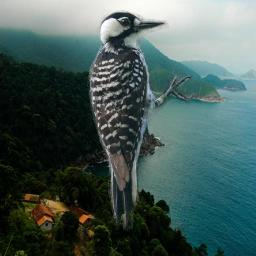Woodpecker: (85, 10, 196, 230)
